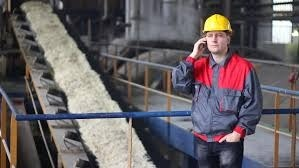helmet: (201, 13, 234, 36)
person with partial safety: (172, 13, 263, 167)
